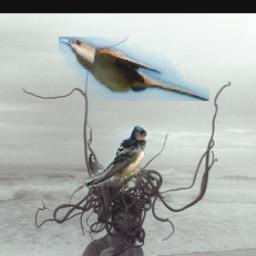Cuckoo: (59, 38, 209, 102)
Swallow: (70, 125, 149, 187)
